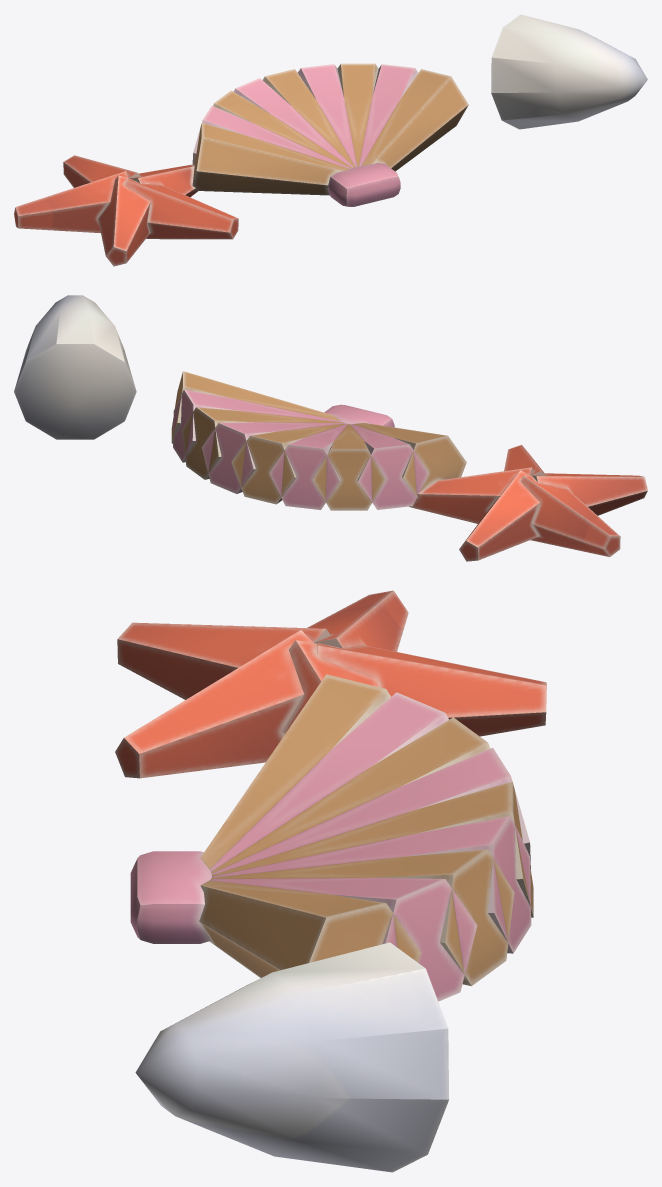
Rendered from shell_deco.glb.
3 views of the same model, one above another, from view 1: azimuth 30°, elevation 25°; view 2: azimuth 150°, elevation 25°; view 3: azimuth 270°, elevation 25° (orthographic). The views are drawn at different scales.
Visible parts, largest first — view 1: SM_ShellDeco; view 2: SM_ShellDeco; view 3: SM_ShellDeco.
Part boxes in pixels (x1,y1,x2,y2): SM_ShellDeco: (14,14,647,266); SM_ShellDeco: (14,295,647,561); SM_ShellDeco: (115,590,546,1172).
Bounding box in the file's own units: 0.5791 × 0.0949 × 0.1871.
1 material, 1 textured.
